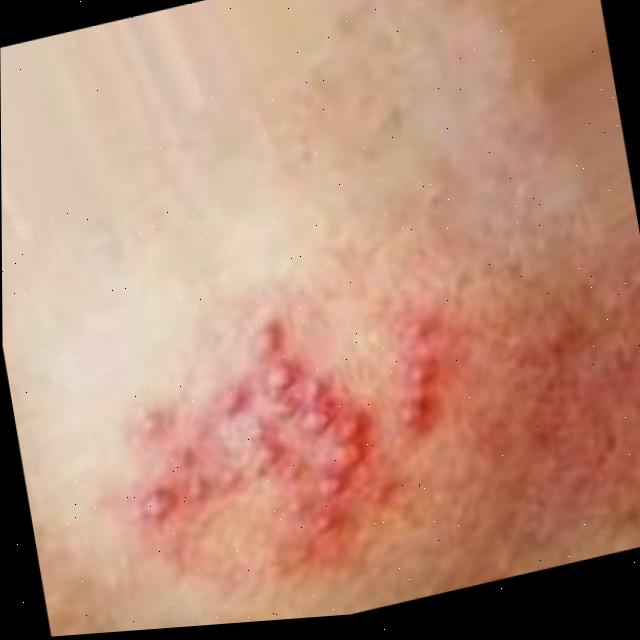Shingles: (123, 283, 482, 570)
